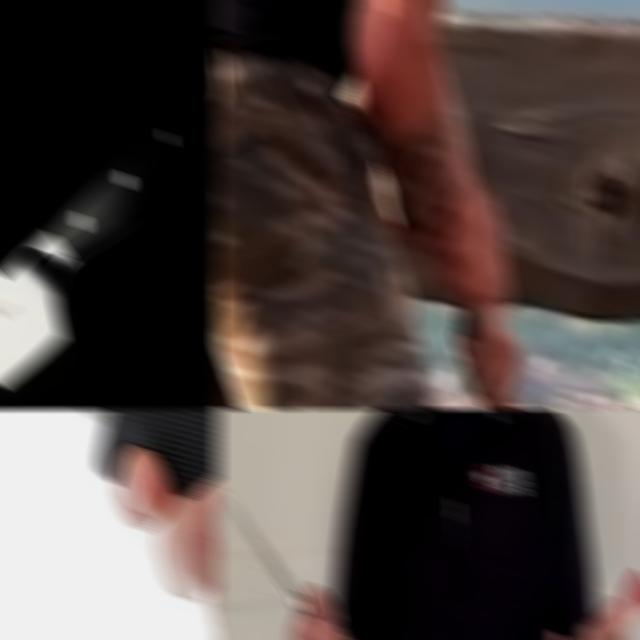Knife_Handle: (214, 484, 351, 640), (0, 191, 96, 410), (447, 303, 566, 410)
